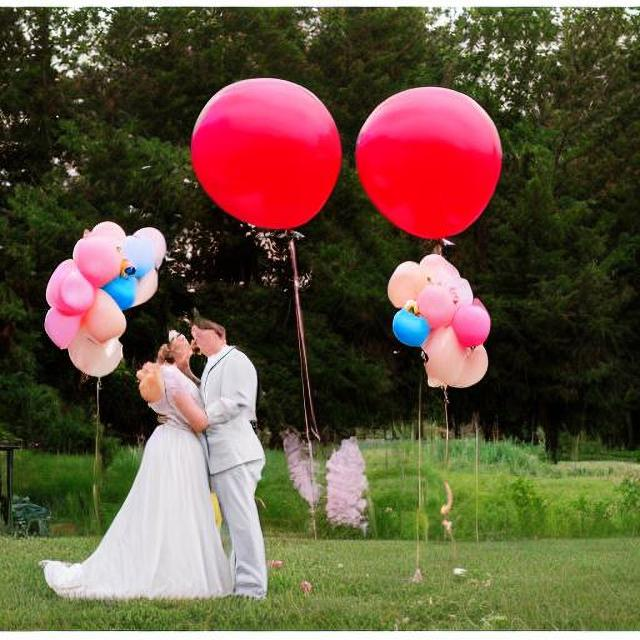balloon: (192, 75, 384, 236), (354, 87, 500, 239), (39, 221, 163, 370), (382, 245, 492, 386)
